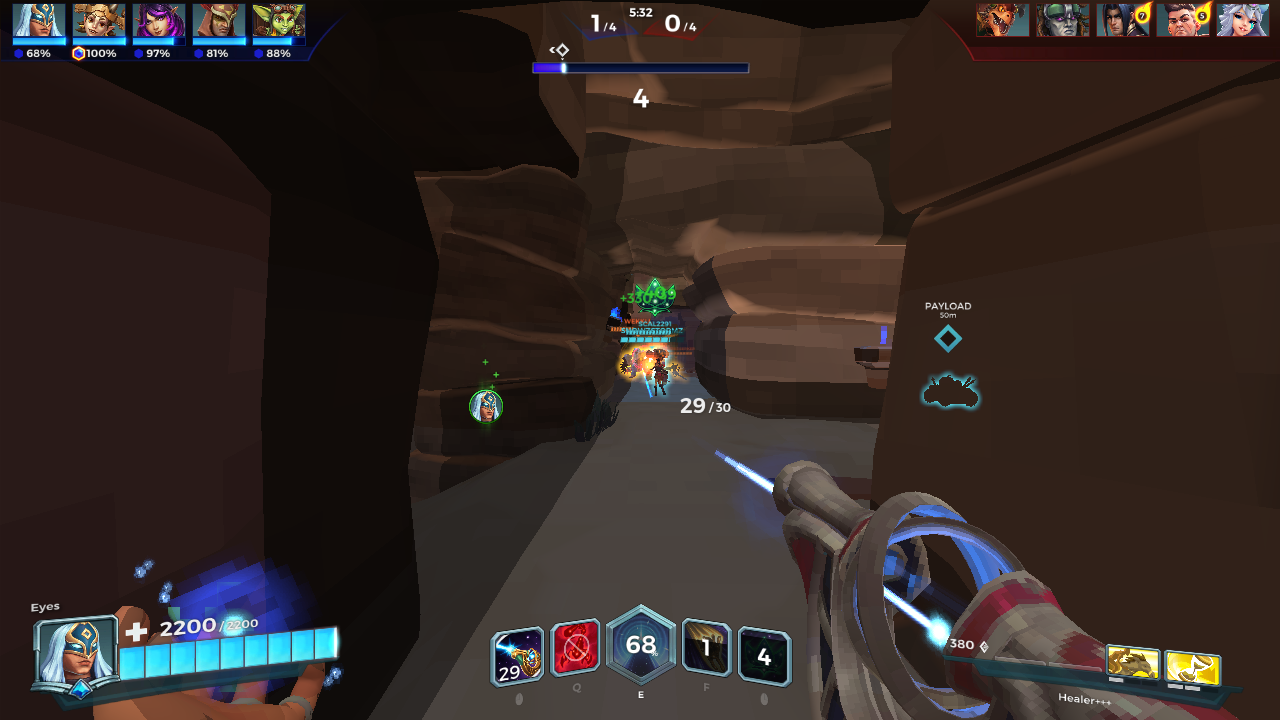model: (618, 344, 666, 386)
